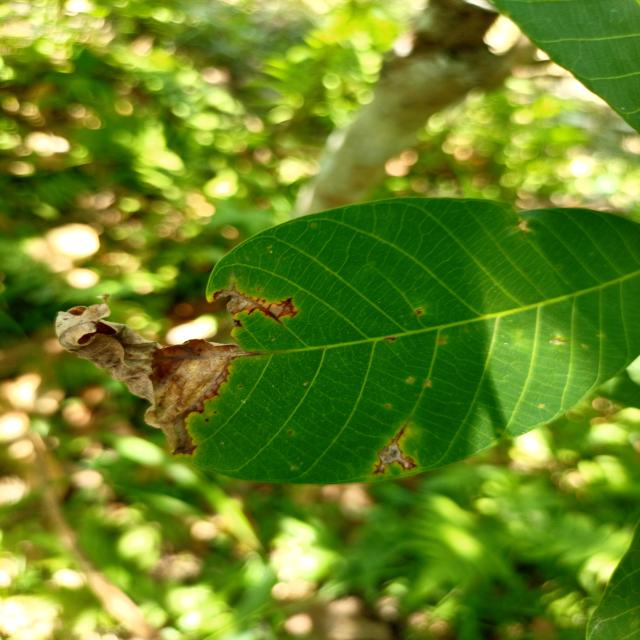Colletotrichum: (288, 430, 293, 434), (204, 418, 209, 422)
Corynespora: (233, 285, 299, 325), (373, 425, 418, 476)
Leaf-Blight: (55, 292, 252, 457), (216, 292, 258, 316)
